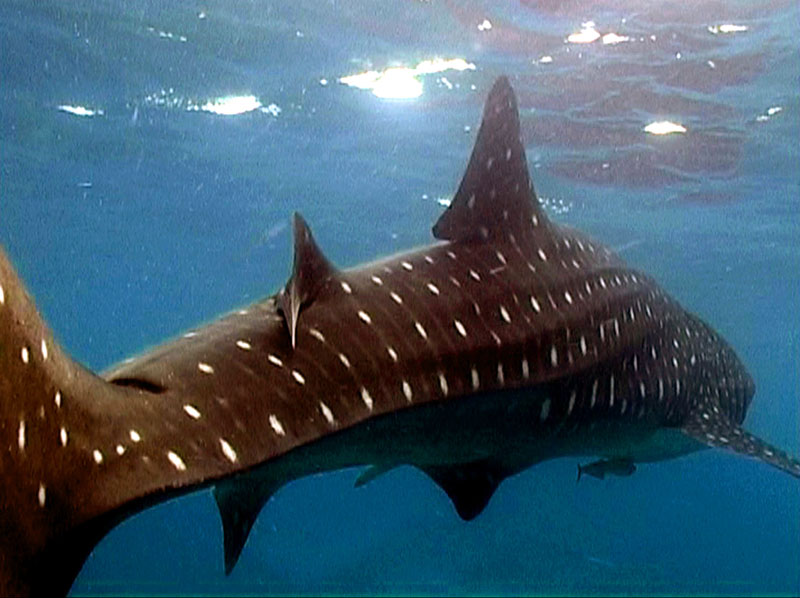Rhincodon_typusw: (1, 63, 800, 548)
